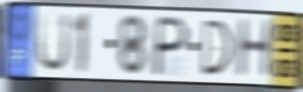1: (73, 10, 94, 78)
8: (116, 12, 149, 79)
D: (200, 18, 235, 78)
H: (233, 16, 276, 81)
P: (149, 14, 192, 79)
U: (34, 11, 72, 75)
